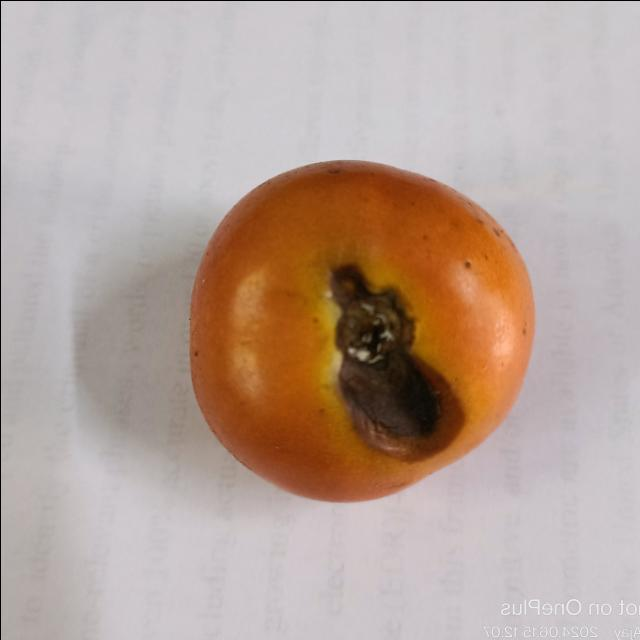Anthrocnose: (327, 255, 468, 460)
